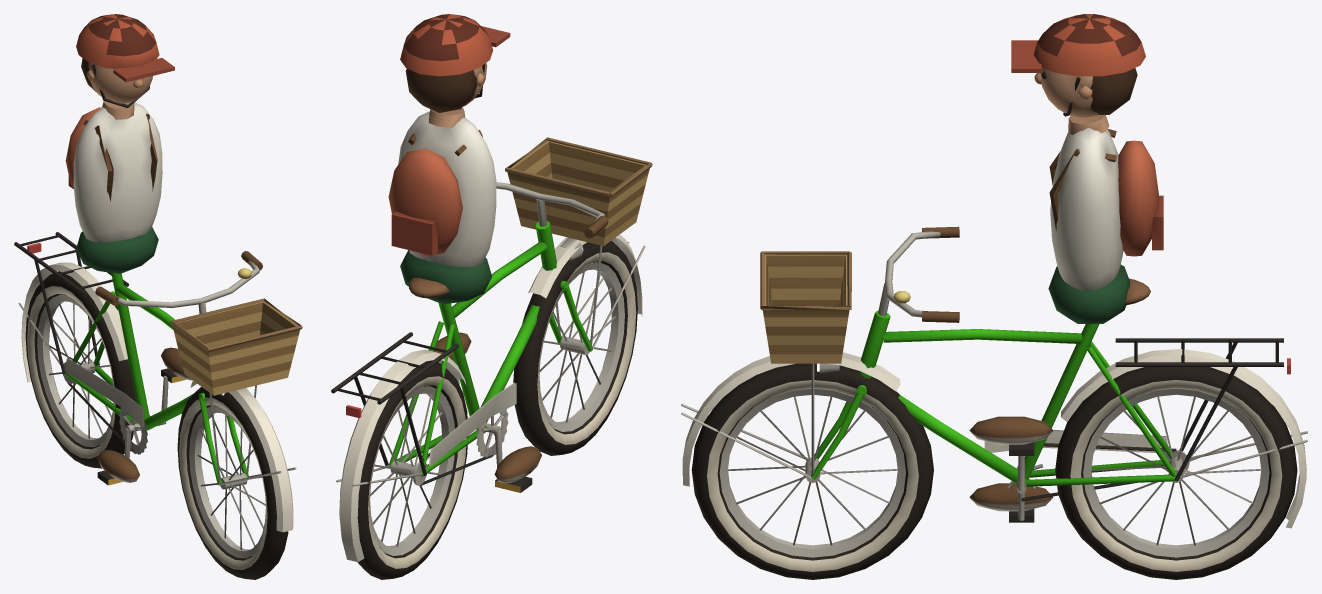
Rendered from city_bike.glb.
3 views of the same model, side by side, from view 1: azimuth 30°, elevation 25°; view 2: azimuth 150°, elevation 25°; view 3: azimuth 270°, elevation 25° (orthographic). The views are drawn at different scales.
Visible parts, largest first — view 1: PART_steer_mesh, city_bike_mesh, PART_torso_mesh, PART_wheel_front_mesh, PART_wheel_rear_mesh, PART_head_mesh, PART_crank_mesh, PART_shoe_r_mesh, PART_shoe_l_mesh; view 2: city_bike_mesh, PART_steer_mesh, PART_torso_mesh, PART_wheel_front_mesh, PART_wheel_rear_mesh, PART_head_mesh, PART_shoe_r_mesh, PART_crank_mesh; view 3: PART_wheel_front_mesh, PART_wheel_rear_mesh, city_bike_mesh, PART_steer_mesh, PART_torso_mesh, PART_head_mesh, PART_shoe_l_mesh, PART_shoe_r_mesh.
Boxes of the visible parts, x1,y1,x2,y2 form: PART_steer_mesh: [95, 251, 302, 532]; city_bike_mesh: [14, 227, 193, 452]; PART_torso_mesh: [65, 101, 162, 242]; PART_wheel_front_mesh: [177, 387, 288, 579]; PART_wheel_rear_mesh: [25, 271, 136, 468]; PART_head_mesh: [76, 14, 174, 107]; PART_crank_mesh: [119, 375, 168, 458]; PART_shoe_r_mesh: [97, 450, 139, 482]; PART_shoe_l_mesh: [161, 347, 192, 380]; city_bike_mesh: [331, 221, 556, 562]; PART_steer_mesh: [496, 137, 652, 351]; PART_torso_mesh: [388, 108, 496, 267]; PART_wheel_front_mesh: [513, 240, 637, 455]; PART_wheel_rear_mesh: [357, 360, 467, 579]; PART_head_mesh: [400, 14, 510, 112]; PART_shoe_r_mesh: [494, 446, 541, 483]; PART_crank_mesh: [455, 377, 508, 467]; PART_wheel_front_mesh: [691, 363, 933, 579]; PART_wheel_rear_mesh: [1055, 367, 1297, 579]; city_bike_mesh: [859, 264, 1307, 528]; PART_steer_mesh: [681, 226, 959, 486]; PART_torso_mesh: [1049, 115, 1163, 290]; PART_head_mesh: [1011, 14, 1145, 117]; PART_shoe_l_mesh: [969, 416, 1053, 444]; PART_shoe_r_mesh: [969, 483, 1053, 511].
Size of the model in its own units: 0.6339 by 1.84 by 1.86.
